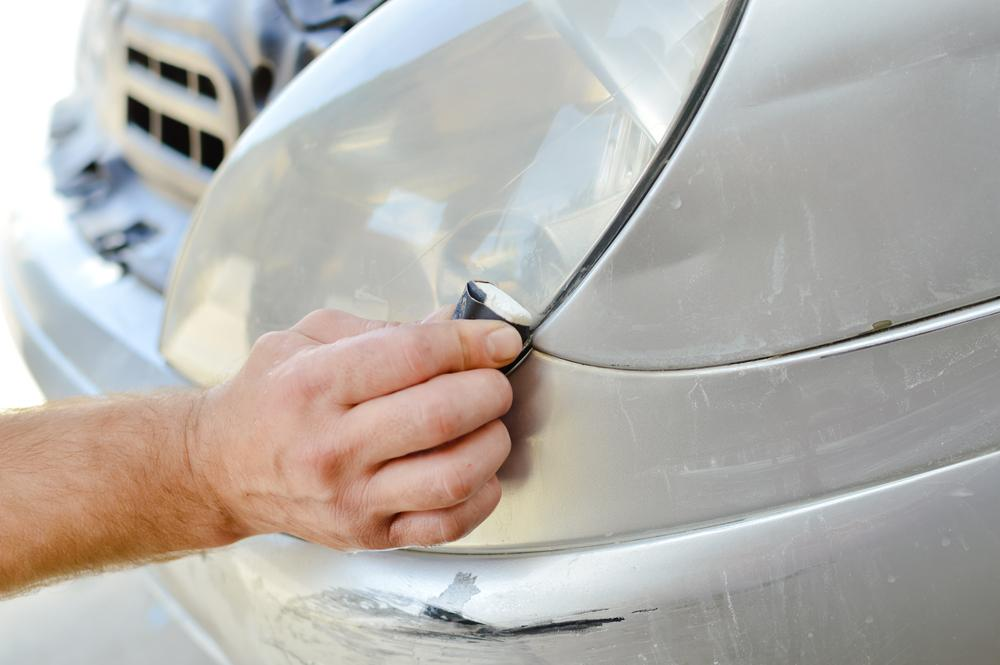scratch: (244, 553, 823, 665)
